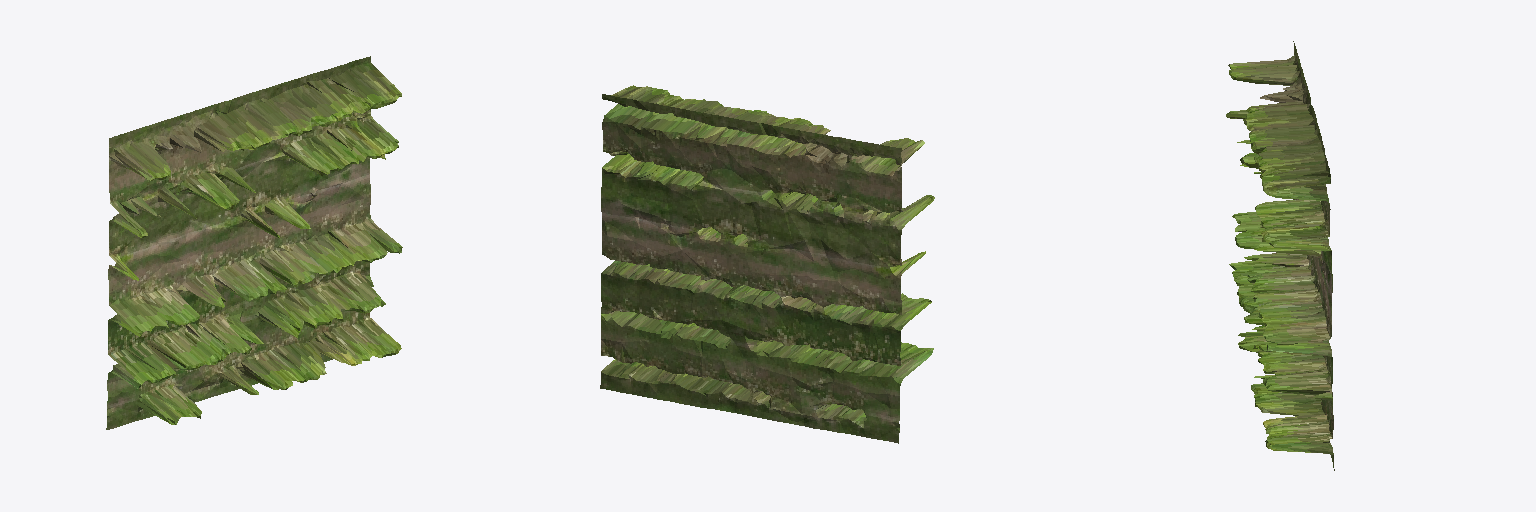
3 renders of one model, left to right at view 1: azimuth 30°, elevation 25°; view 2: azimuth 150°, elevation 25°; view 3: azimuth 270°, elevation 25°, orthographic.
Parts seen in each view (by area): view 1: grp1; view 2: grp1; view 3: grp1.
Part boxes in pixels (left/top/right/bottom): grp1: left=106, top=56, right=402, bottom=429; grp1: left=600, top=85, right=934, bottom=443; grp1: left=1226, top=41, right=1334, bottom=470.
Bounding box in the file's own units: 10 × 10 × 3.37.
1 materials, 1 textured.